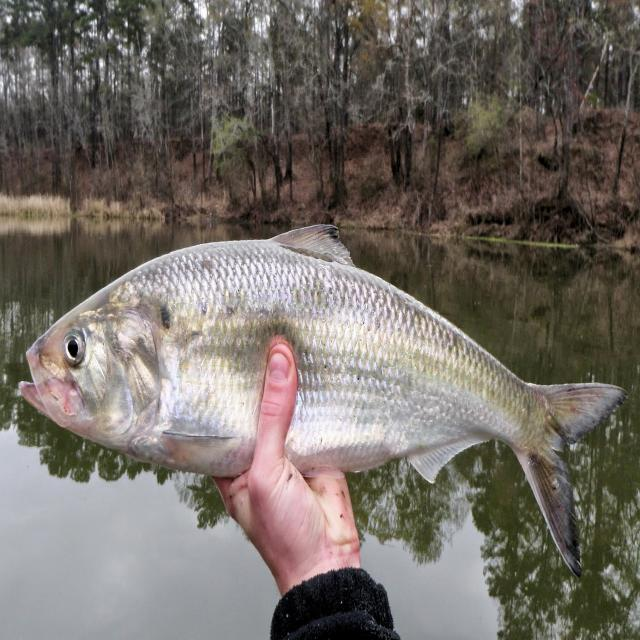Shad - American: (20, 226, 625, 575)
